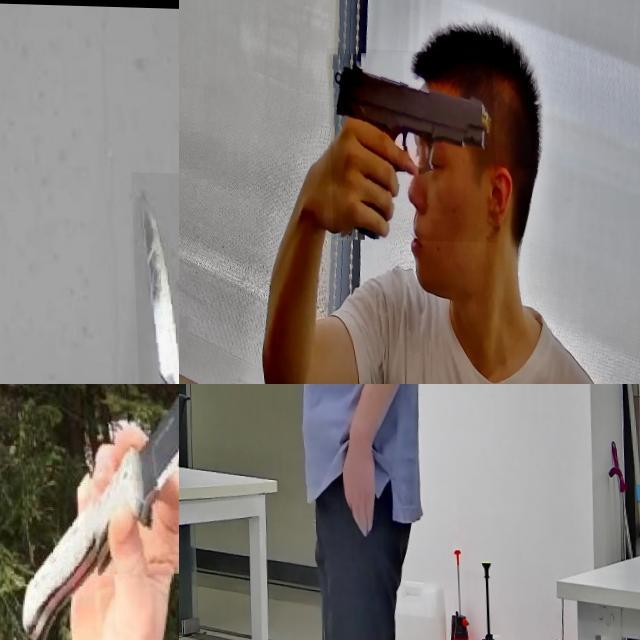-: (74, 384, 179, 576), (129, 170, 179, 384)
gun-knife-thesis - v11 Yolov5 augmented: (326, 46, 496, 240), (179, 384, 257, 440)
